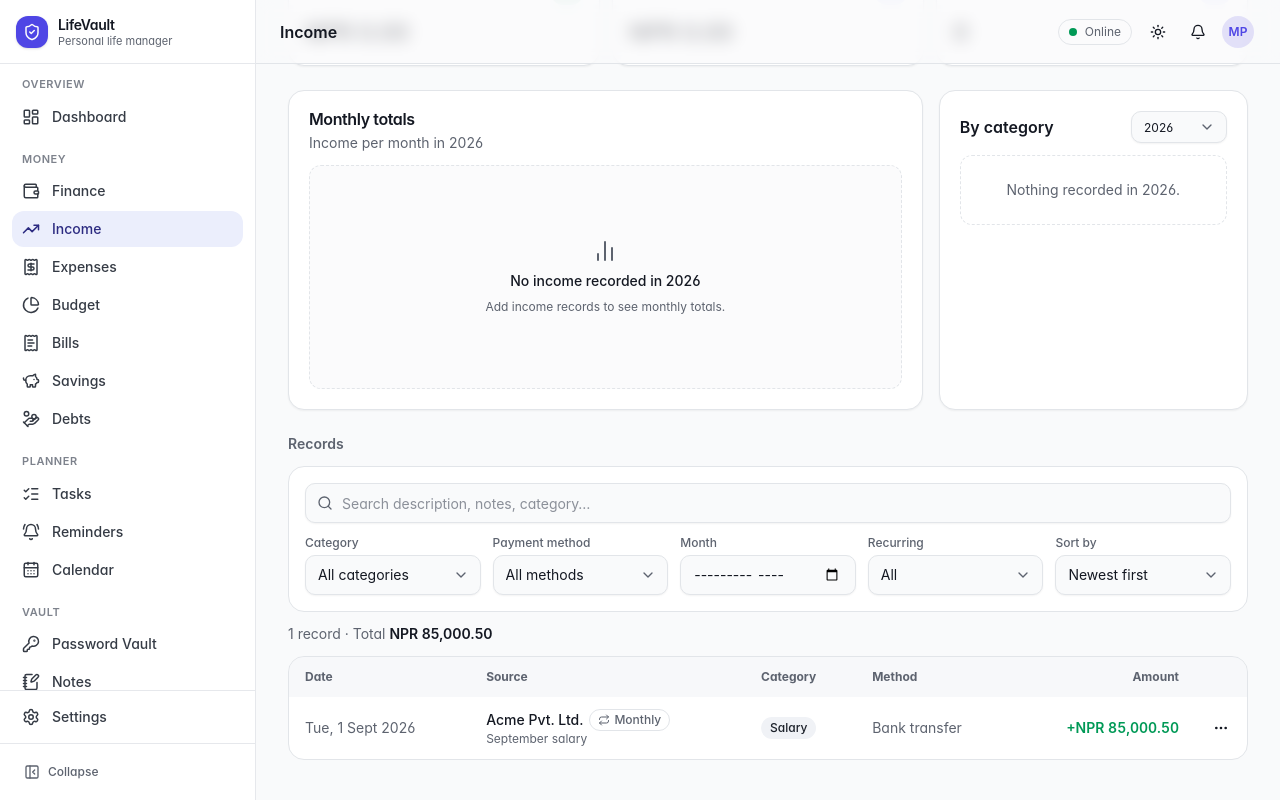
Test: income page › edits a record with the form prefilled
The image size is (1280, 800).
(page scrolled)
# Desktop table and phone cards are both in the DOM (jsdom applies no CSS): use the table.
Click the button named "Actions for Acme Pvt. Ltd.": [1221, 728] box [1203,710,1239,746]
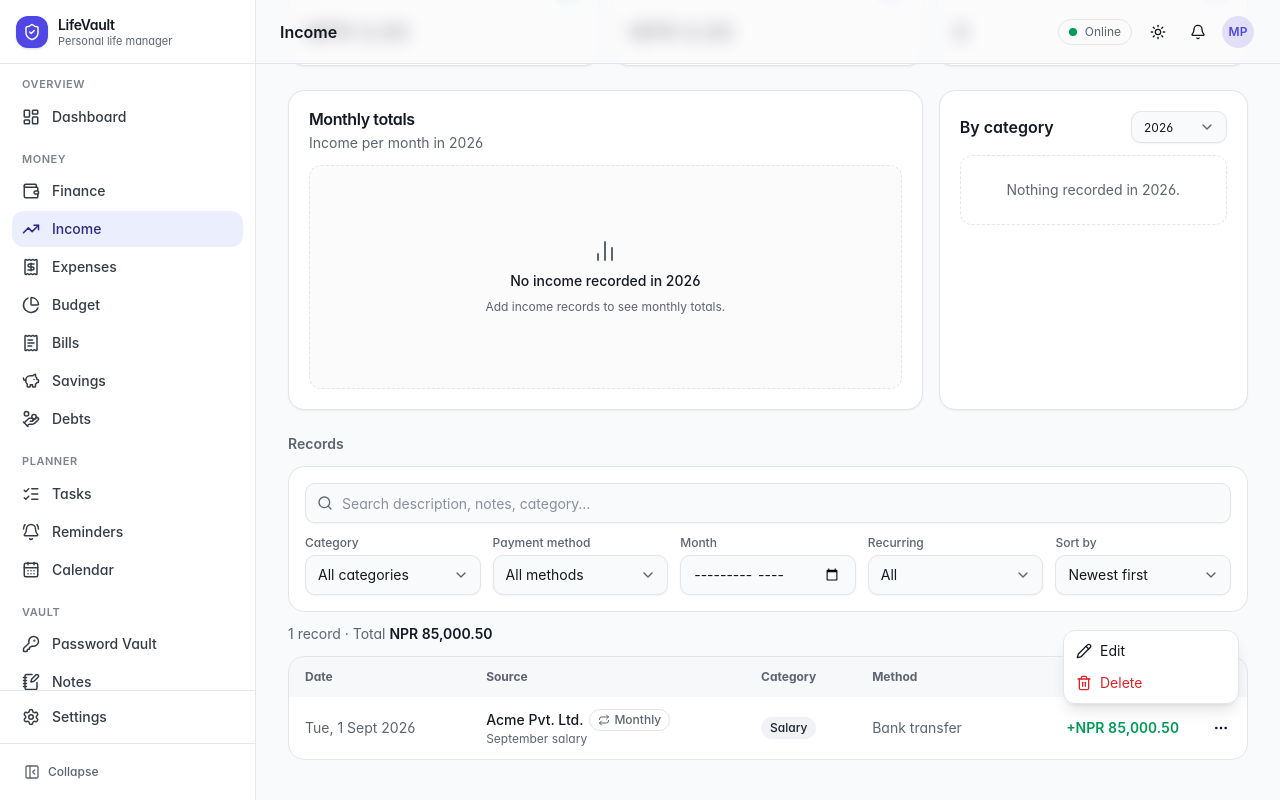
Click the menu item "Edit": [1100, 650] box [1076,642,1125,659]
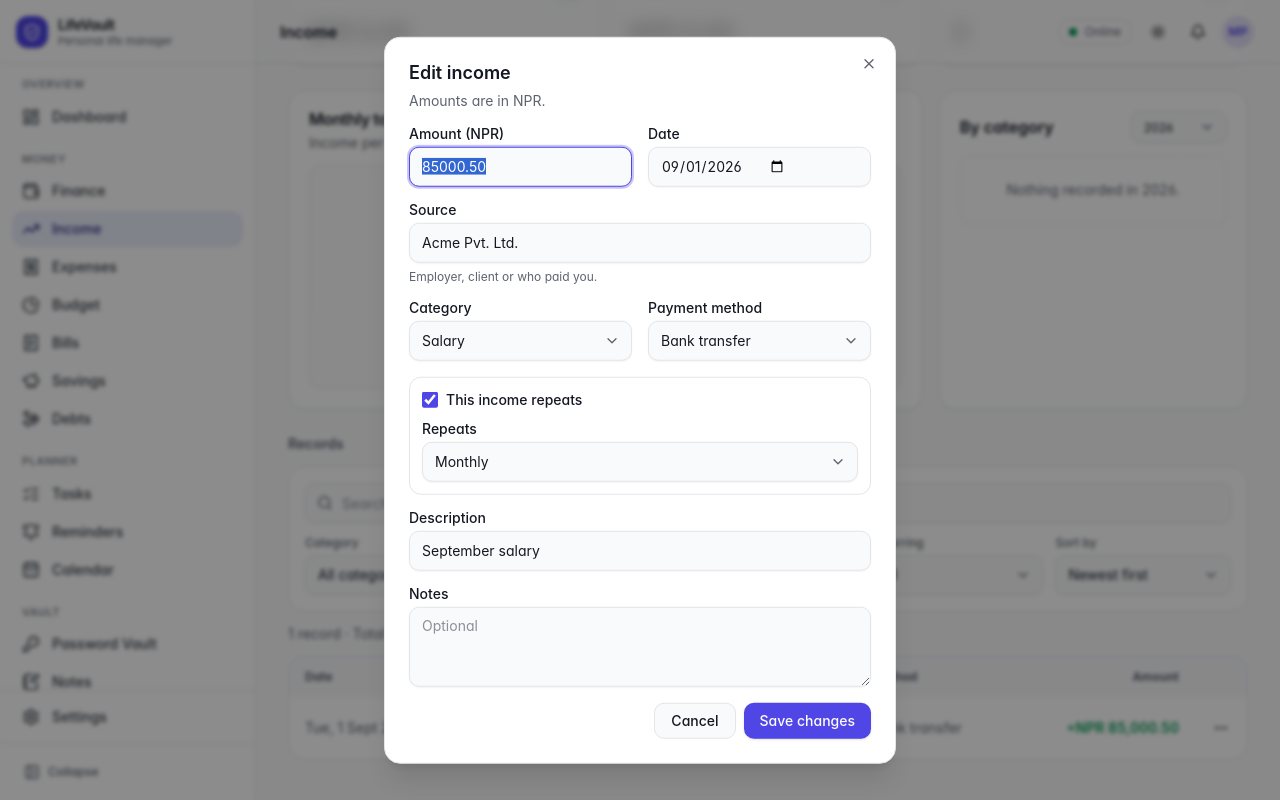
Now the field labelled "Amount (NPR)" holds "85000.50"
Now the field labelled "Source" holds "Acme Pvt. Ltd.", box [409,222,871,262]
Replace the text in the field labelled "Amount (NPR)" with "90000": [520, 166] box [409,146,632,186]
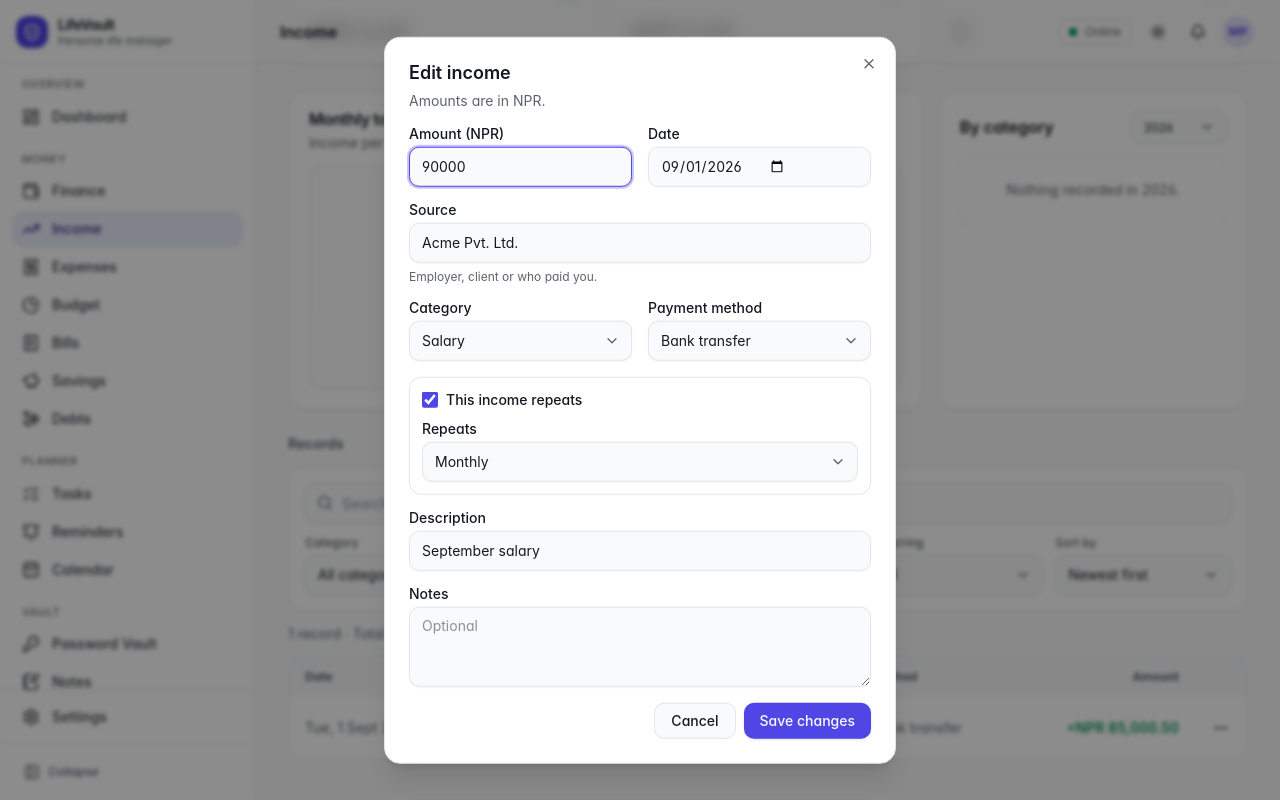
Click the button "Save changes": [807, 720] box [744,702,871,738]
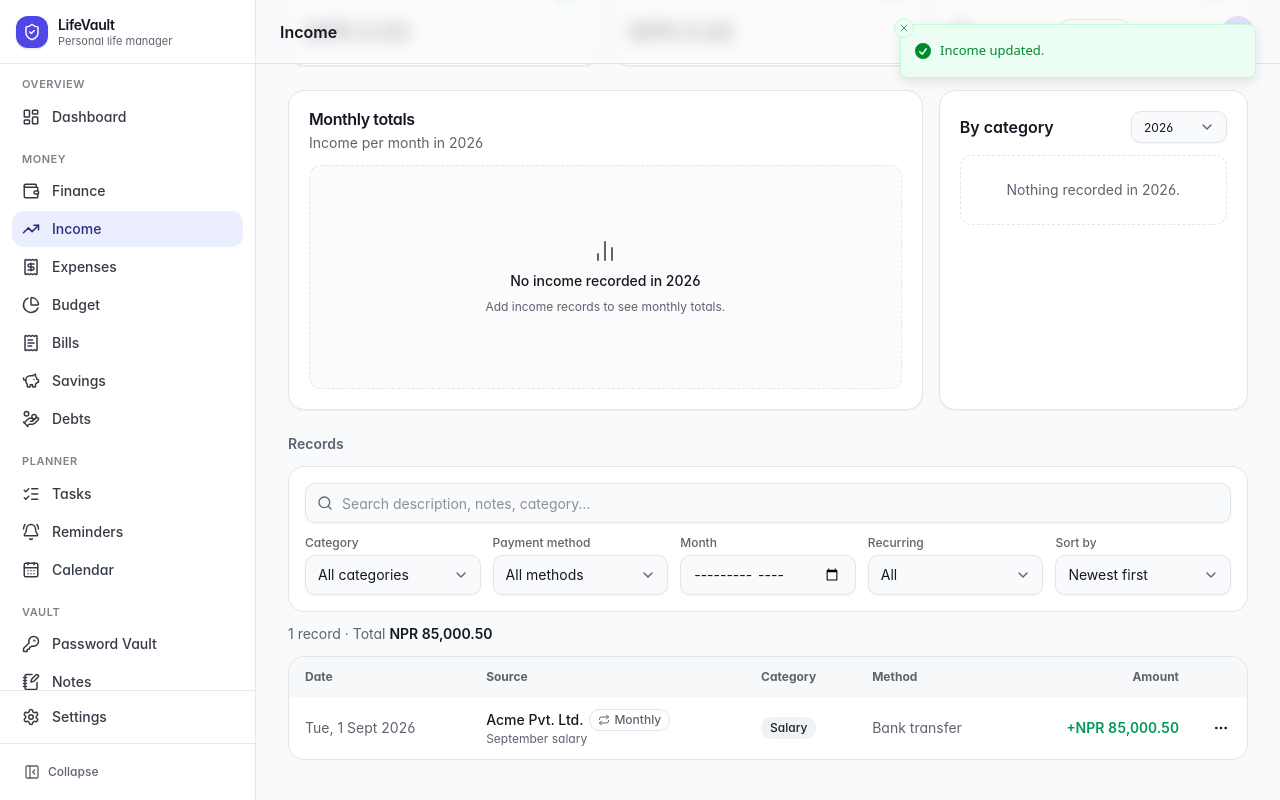
Now the text "Income updated." is shown, box [940,41,1044,60]
